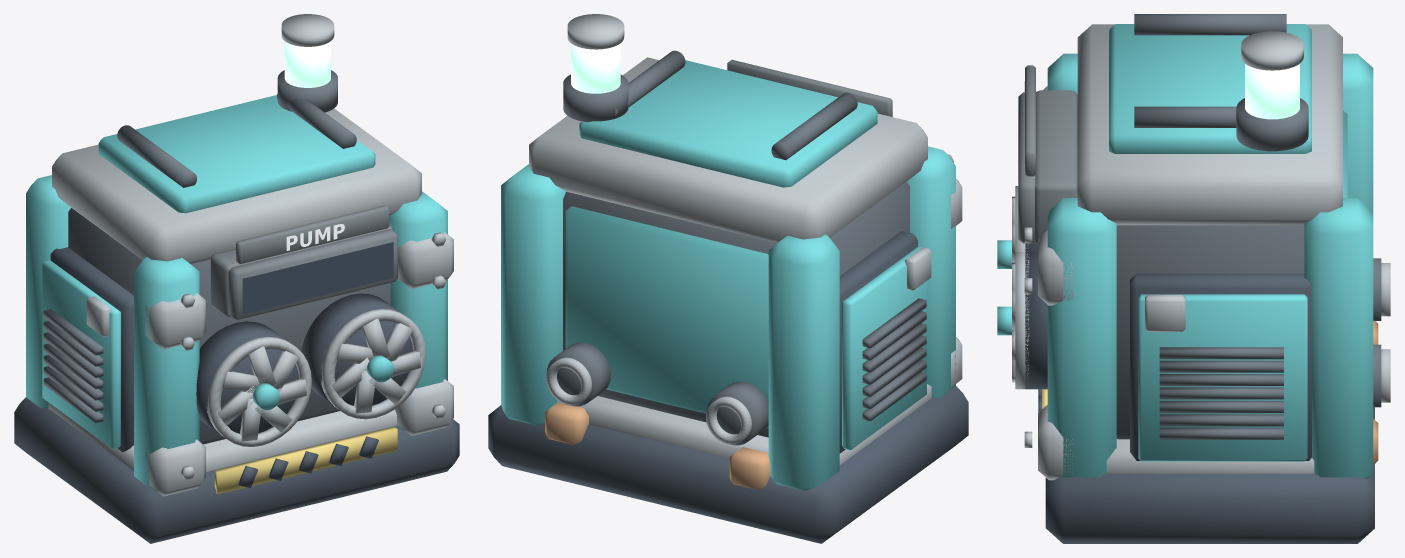
The model's file is pump_ultra.glb.
3 views of the same model, side by side, from view 1: azimuth 30°, elevation 25°; view 2: azimuth 150°, elevation 25°; view 3: azimuth 270°, elevation 25° (orthographic). The views are drawn at different scales.
Visible parts, largest first — view 1: Frame_cyan_legacy_4, Base_black_legacy_0, TopCap_steel_legacy_10, RoofPanel_cyan_legacy_11, CornerGuard_steel_legacy_5, FanBlade_steel_legacy_15, Fan_black_legacy_13, Housing_dark_legacy_2, FanGuard_steel_legacy_14, ServiceDoor_cyan_legacy_7, LiveViewSurface_glass, Skirt_steel_legacy_1 (+15 smaller); view 2: Frame_cyan_legacy_4, Armor_cyan_legacy_3, Base_black_legacy_0, TopCap_steel_legacy_10, RoofPanel_cyan_legacy_11, Housing_dark_legacy_2, ServiceDoor_cyan_legacy_7, SideVents_dark_legacy_8, Skirt_steel_legacy_1, RearPort_dark_legacy_26, LiftRail_dark_legacy_12, RearPort_copper_legacy_29 (+8 smaller); view 3: Frame_cyan_legacy_4, TopCap_steel_legacy_10, Base_black_legacy_0, ServiceDoor_cyan_legacy_7, RoofPanel_cyan_legacy_11, Housing_dark_legacy_2, SideVents_dark_legacy_8, SidePanel_black_legacy_6, LiftRail_dark_legacy_12, ScreenMount_frame, CornerGuard_steel_legacy_5, Skirt_steel_legacy_1 (+12 smaller).
Part boxes in pixels (box(x1,y1,x2,y2)): Frame_cyan_legacy_4: box(26, 175, 447, 491); Base_black_legacy_0: box(14, 397, 459, 543); TopCap_steel_legacy_10: box(52, 108, 421, 264); RoofPanel_cyan_legacy_11: box(98, 95, 375, 213); CornerGuard_steel_legacy_5: box(145, 232, 453, 496); FanBlade_steel_legacy_15: box(218, 318, 420, 441); Fan_black_legacy_13: box(196, 293, 412, 433); Housing_dark_legacy_2: box(68, 208, 390, 444); FanGuard_steel_legacy_14: box(206, 308, 425, 446); ServiceDoor_cyan_legacy_7: box(42, 260, 120, 449); LiveViewSurface_glass: box(242, 242, 393, 314); Skirt_steel_legacy_1: box(48, 402, 396, 471); Frame_cyan_legacy_4: box(501, 146, 955, 490); Armor_cyan_legacy_3: box(565, 206, 768, 428); Base_black_legacy_0: box(488, 386, 968, 543); TopCap_steel_legacy_10: box(529, 57, 927, 242); RoofPanel_cyan_legacy_11: box(579, 60, 877, 187); Housing_dark_legacy_2: box(563, 182, 909, 437); ServiceDoor_cyan_legacy_7: box(842, 246, 926, 450); SideVents_dark_legacy_8: box(862, 298, 926, 421); Skirt_steel_legacy_1: box(557, 384, 931, 464); RearPort_dark_legacy_26: box(546, 342, 768, 445); LiftRail_dark_legacy_12: box(615, 50, 857, 160); RearPort_copper_legacy_29: box(545, 402, 770, 490); Frame_cyan_legacy_4: box(1047, 53, 1373, 478); TopCap_steel_legacy_10: box(1077, 24, 1342, 225); Base_black_legacy_0: box(1045, 407, 1374, 543); ServiceDoor_cyan_legacy_7: box(1138, 294, 1307, 461); RoofPanel_cyan_legacy_11: box(1109, 24, 1311, 153); Housing_dark_legacy_2: box(1116, 225, 1304, 439); SideVents_dark_legacy_8: box(1159, 347, 1283, 439); SidePanel_black_legacy_6: box(1130, 273, 1311, 460); LiftRail_dark_legacy_12: box(1134, 14, 1286, 127); ScreenMount_frame: box(1035, 90, 1077, 244); CornerGuard_steel_legacy_5: box(1038, 86, 1073, 480); Skirt_steel_legacy_1: box(1106, 439, 1314, 473).
Size of the model in its own units: 1.43 by 1.65 by 1.25.
